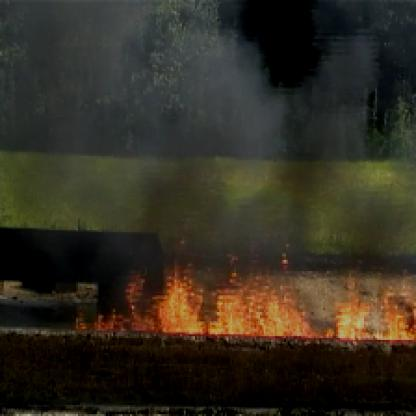Fire: (76, 247, 414, 345)
Smoke: (2, 2, 405, 258)
